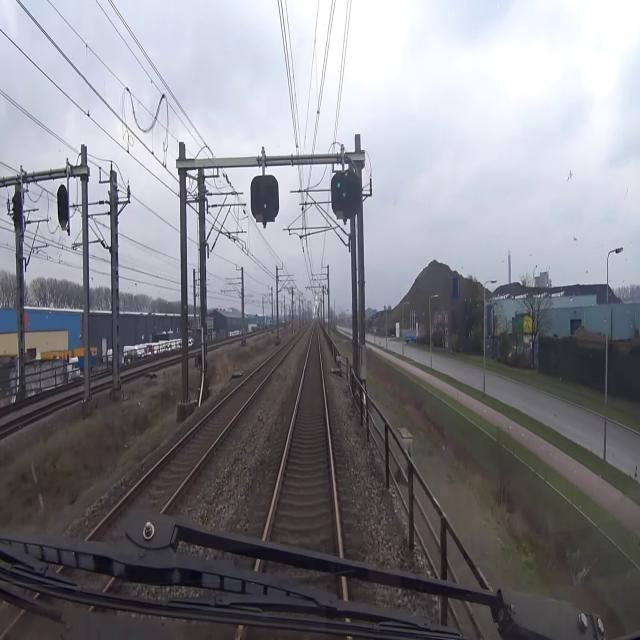rail-track: (124, 337, 296, 504), (268, 325, 337, 546), (0, 422, 19, 432)
